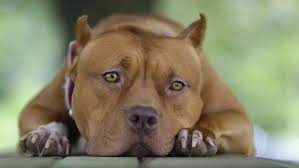Perro Pitbull: (57, 13, 219, 157)
